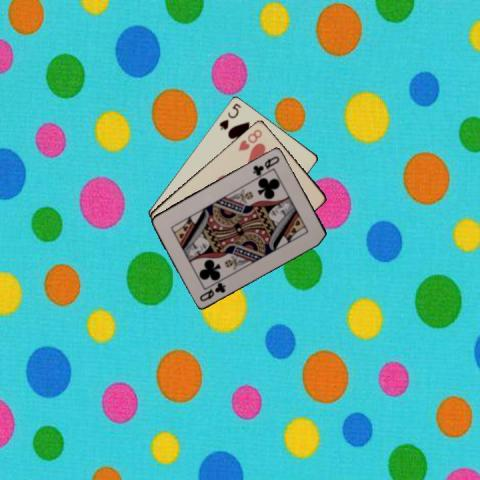5s: (216, 100, 242, 131)
8h: (236, 126, 264, 152)
Qc: (250, 152, 281, 176), (197, 279, 227, 303)
